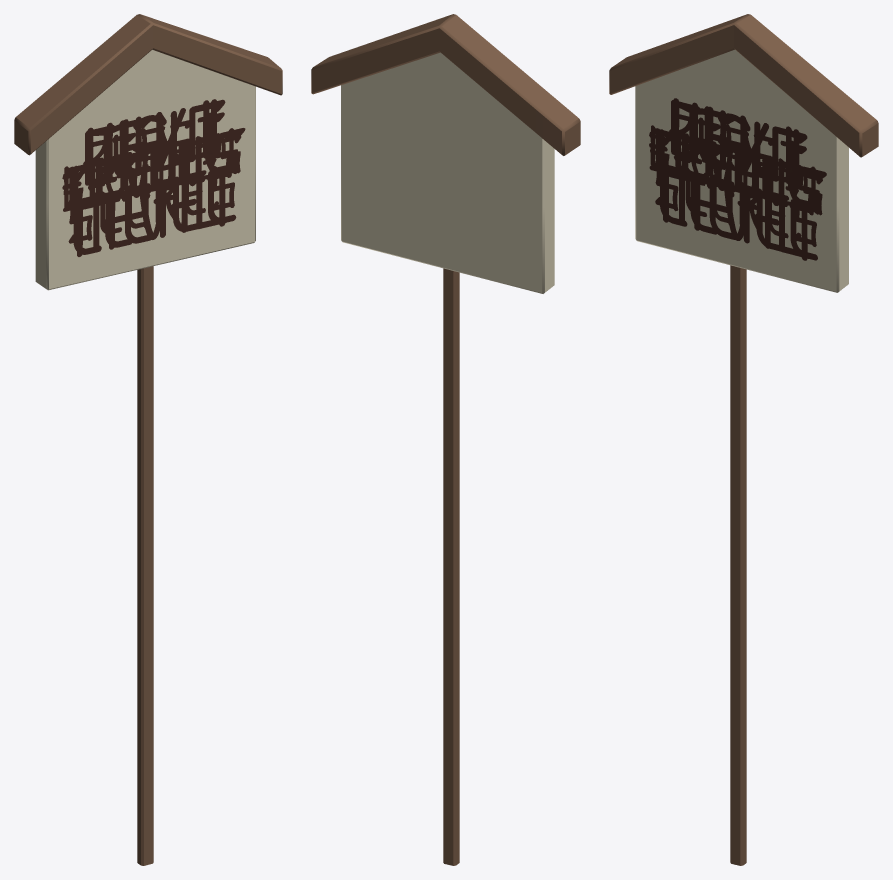
Rendered from LongHouseSigns.fbx.
The picture shows the model from 3 angles, left to right: view 1: azimuth 30°, elevation 25°; view 2: azimuth 150°, elevation 25°; view 3: azimuth 330°, elevation 25°; orthographic projection.
Visible parts, largest first — view 1: sign_levels01, sign_resetscores01, sign_nextlevel01, sign_mainmenu01, sign_restart, sign_settings01, sign_credits01; view 2: sign_levels01; view 3: sign_levels01, sign_nextlevel01, sign_resetscores01, sign_mainmenu01, sign_restart, sign_settings01, sign_credits01.
Part boxes in pixels (bbox=[...]): sign_levels01: bbox=[14, 14, 282, 865]; sign_resetscores01: bbox=[68, 112, 234, 243]; sign_nextlevel01: bbox=[73, 99, 236, 254]; sign_mainmenu01: bbox=[77, 99, 226, 256]; sign_restart: bbox=[62, 128, 245, 206]; sign_settings01: bbox=[62, 135, 241, 211]; sign_credits01: bbox=[68, 131, 238, 207]; sign_levels01: bbox=[311, 14, 580, 865]; sign_levels01: bbox=[609, 14, 878, 865]; sign_nextlevel01: bbox=[660, 100, 817, 260]; sign_resetscores01: bbox=[655, 110, 816, 246]; sign_mainmenu01: bbox=[663, 98, 808, 260]; sign_restart: bbox=[649, 125, 826, 202]; sign_settings01: bbox=[649, 132, 822, 215]; sign_credits01: bbox=[655, 128, 820, 214].
Size of the model in its own units: 78.58 by 248 by 9.52.
